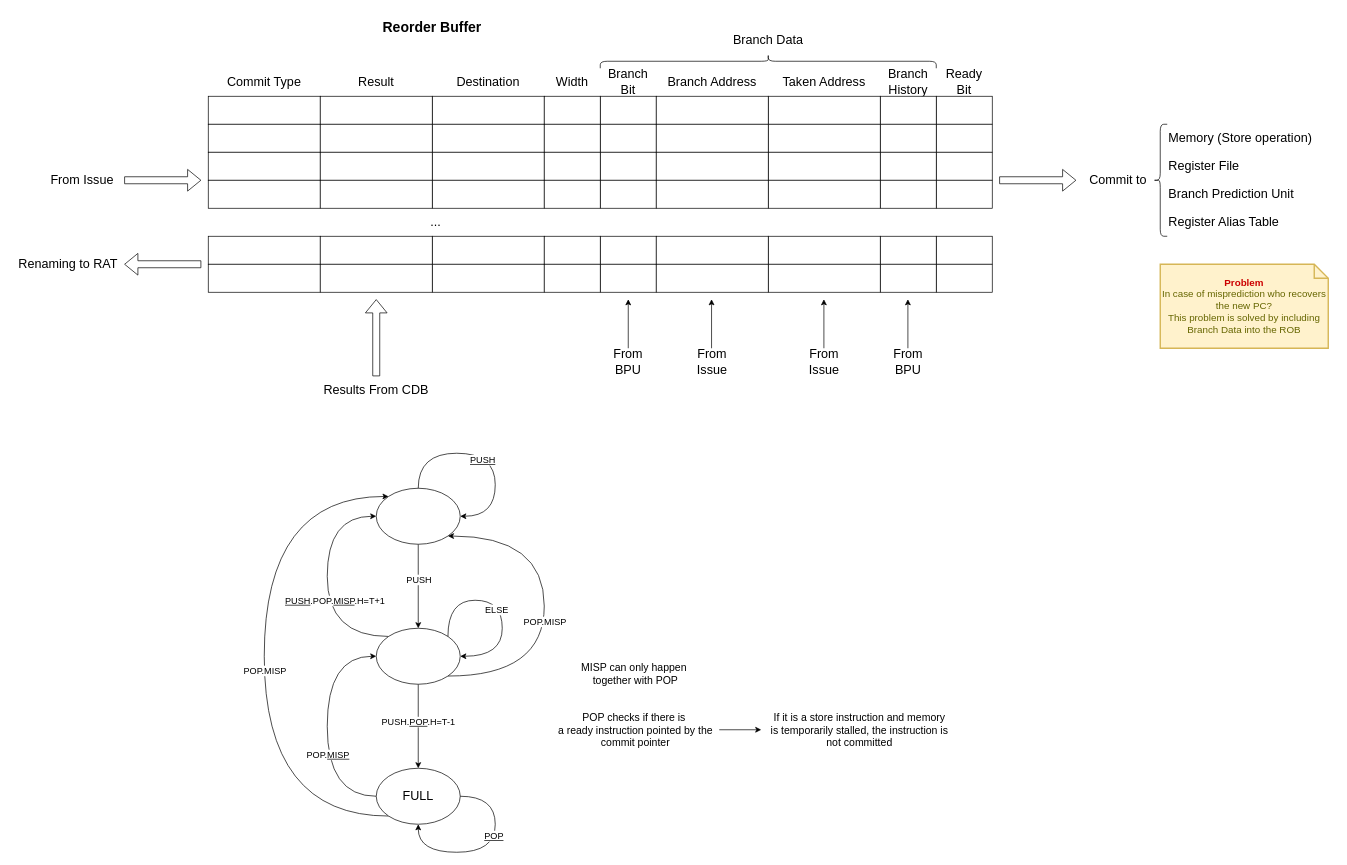
Image size: 1347x865. Some labels were removed from this diagram. The shapes that lost their labels are listed below. From the top down, each one's box as (x1, y1, x2, y2) in pixels, then its label:
(376, 488, 460, 544): EMPTY
(376, 628, 460, 684): IDLE
